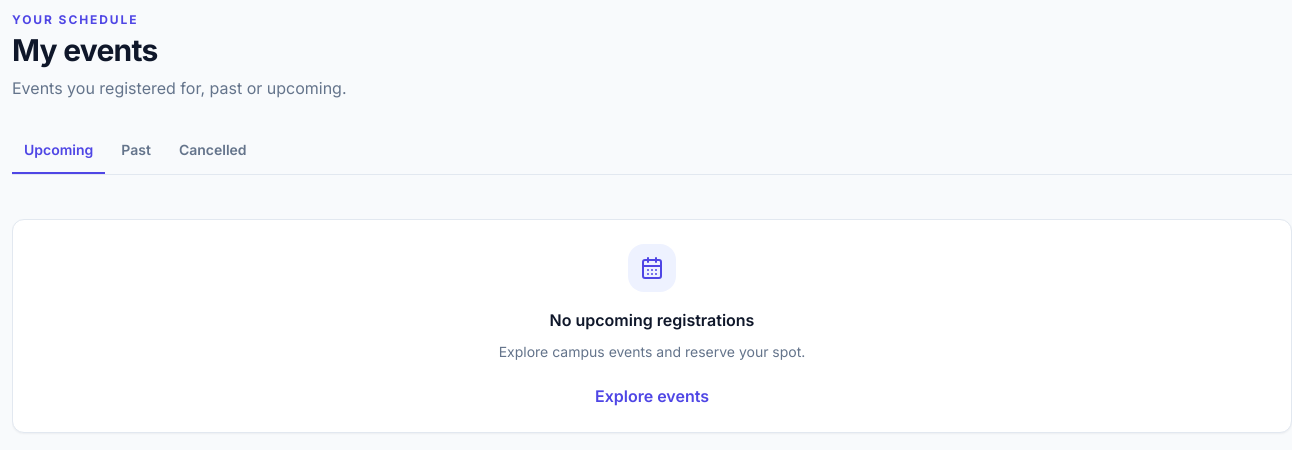
it: Phase 6 event pages › switches My Events tabs and displays the empty state
Check: the heading "No upcoming registrations" is shown, box [550,308,754,332]
Click the tab "Past": coordinates (136, 151) [109,128,163,174]
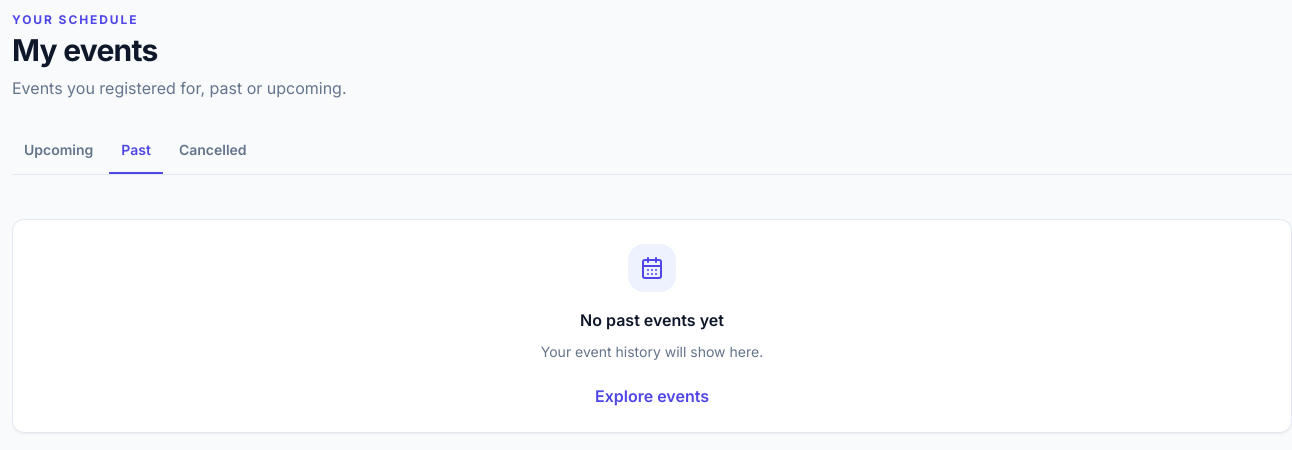
Check: the heading "No past events yet" is shown, box [580,308,724,332]
